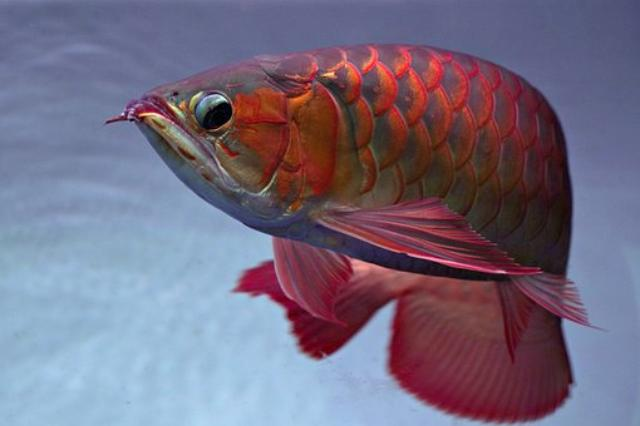Mulut: (84, 57, 246, 210)
Sirip Anal: (377, 259, 594, 426)
Sirip Dada: (308, 192, 548, 286), (266, 222, 364, 336)
Sirip Ekor: (227, 238, 403, 374)
Sirip Perut: (488, 262, 618, 374)
